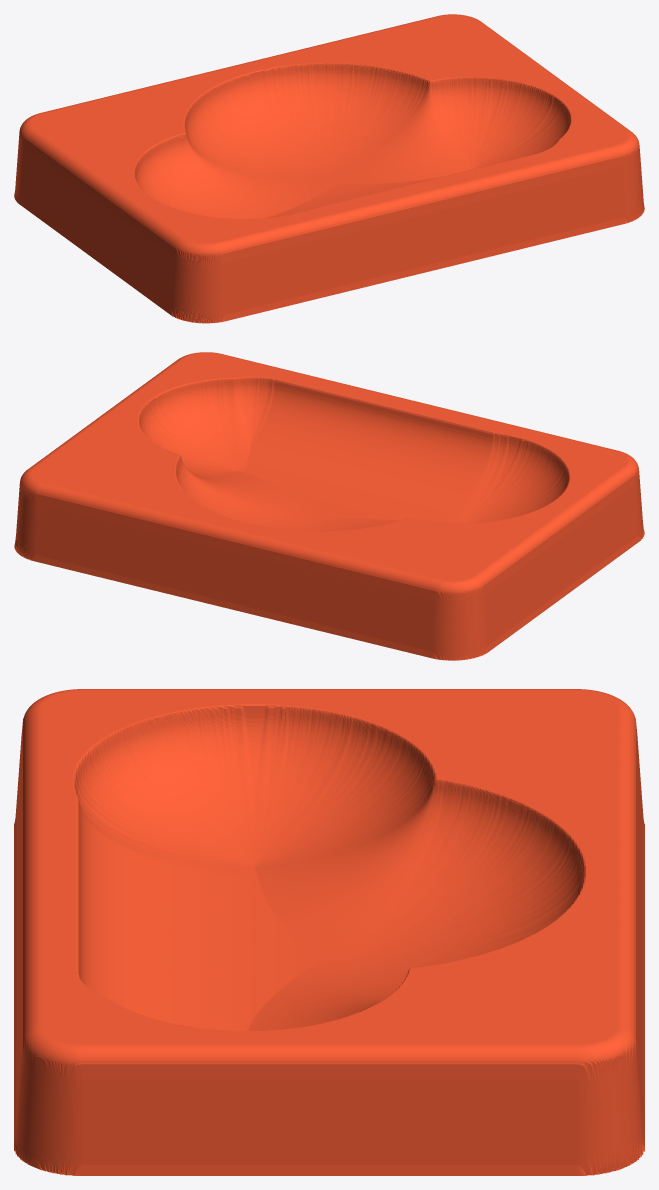
Rendered from mold.glb.
3 renders of one model, top to bottom at view 1: azimuth 30°, elevation 25°; view 2: azimuth 150°, elevation 25°; view 3: azimuth 270°, elevation 25°, orthographic. The views are drawn at different scales.
Parts seen in each view (by area): view 1: geometry_0; view 2: geometry_0; view 3: geometry_0.
Boxes of the visible parts, x1,y1,x2,y2 form: geometry_0: (14,14,644,323); geometry_0: (14,352,644,660); geometry_0: (14,689,644,1175).
Size of the model in its own units: 0.1178 by 0.0175 by 0.0834.
